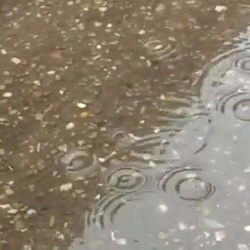drop: (118, 95, 216, 163), (86, 193, 145, 234), (158, 167, 214, 201), (107, 167, 146, 192), (60, 148, 96, 174), (220, 92, 250, 121), (143, 38, 173, 59), (108, 129, 130, 144), (236, 57, 250, 72)
